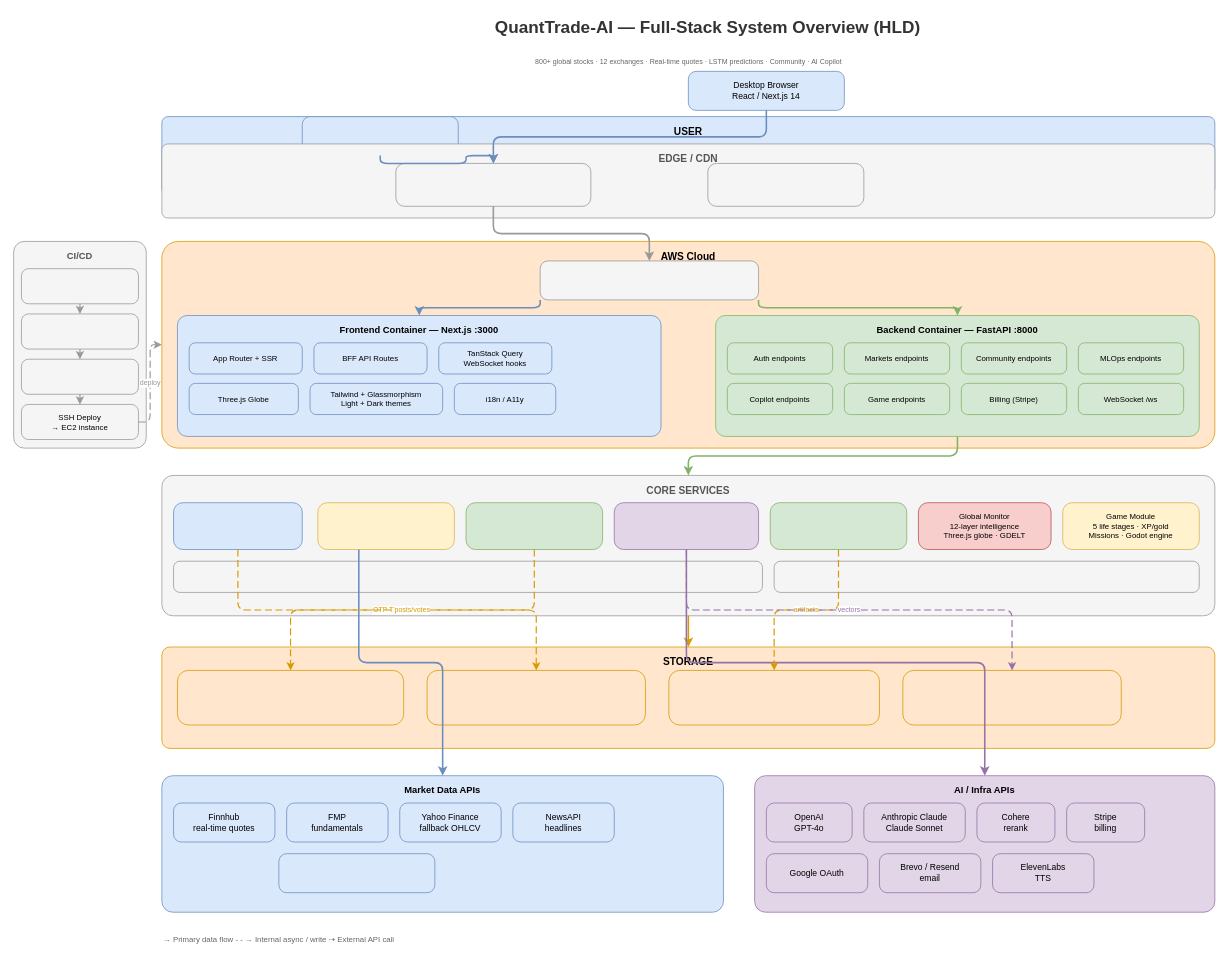
This 1229x960 diagram has some shape labels left out. The centre of each missing label's shape, as x and y in pixels:
"Agentic Copilot LangGraph supervisor 6 agents · HyDE RAG · 500K filings" belongs at [686,526].
"APScheduler: rescore_ideas 5m · market_pulse 2m · news 10m · nightly_sync" belongs at [467,576].
"Auth Service JWT / WebAuthn OAuth / OTP" belongs at [237,526].
"Build Docker images (frontend + backend)" belongs at [79,331].
"Celery Workers: Reddit sync · news ingestion · drift check · nightly ML pipeline" belongs at [986,576].
"Cloudflare CDN WAF + DDoS Protection Turnstile (bot shield)" belongs at [493,184].
"Cloudflare DNS (Proxied)" belongs at [785,184].
"Community Platform Posts / Comments / Voting FinBERT + AI moderation" belongs at [534,526].
"GitHub Actions CI / CD pipeline" belongs at [79,286].
"Market Data Service Finnhub primary Yahoo fallback + FMP" belongs at [385,526].
"MLOps Engine AWS Batch · 5 shards LSTM · Registry · Drift" belongs at [838,526].
"Mobile App iOS / Android" belongs at [379,136].
"Neon PostgreSQL (pgvector) Users · Posts · Models · Vectors" belongs at [290,697].
"Nginx Reverse Proxy SSL / HSTS / microcache" belongs at [649,280].
"Push to GHCR (ghcr.io tags)" belongs at [79,376].
"Qdrant Vector DB 500K SEC filing vectors dense + sparse (hybrid)" belongs at [1011,697].
"Redis ElastiCache OTP TTL · Rate Limits Quote Cache · Prediction Cache" belongs at [535,697].
"S3 / MinIO ML artifacts · media uploads feature cache · checkpoints" belongs at [773,697].
"SEC EDGAR 500K filings" belongs at [356,873].
